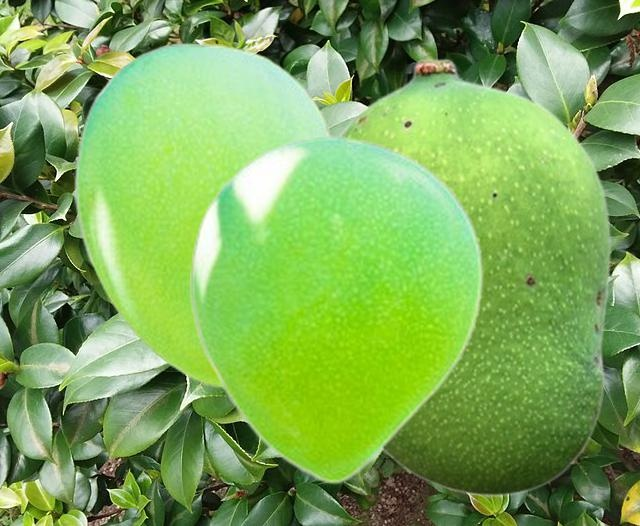green_mango: (336, 57, 610, 496), (190, 134, 482, 484), (73, 42, 334, 387)
